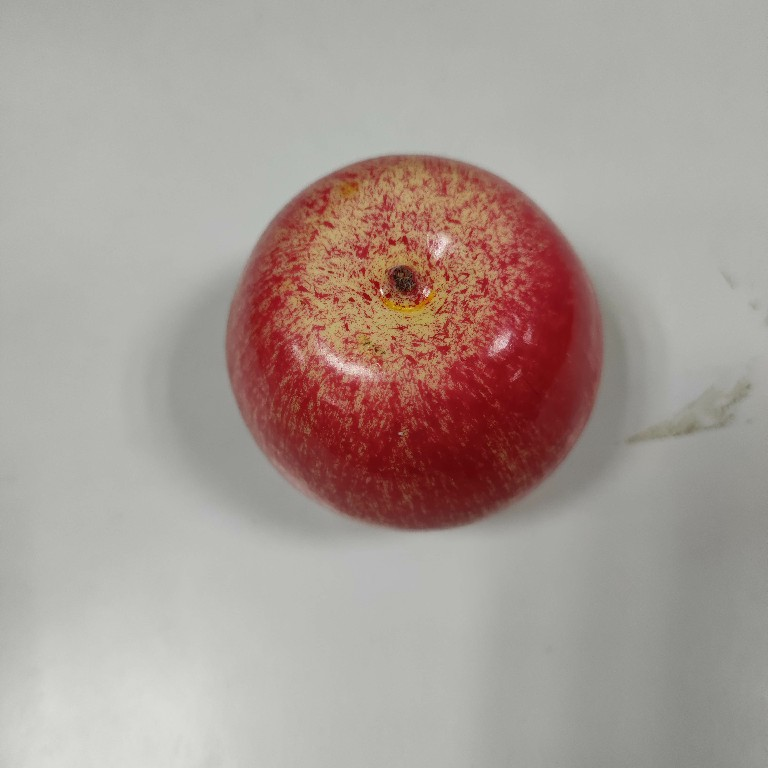fruit_apple: (220, 148, 610, 542)
